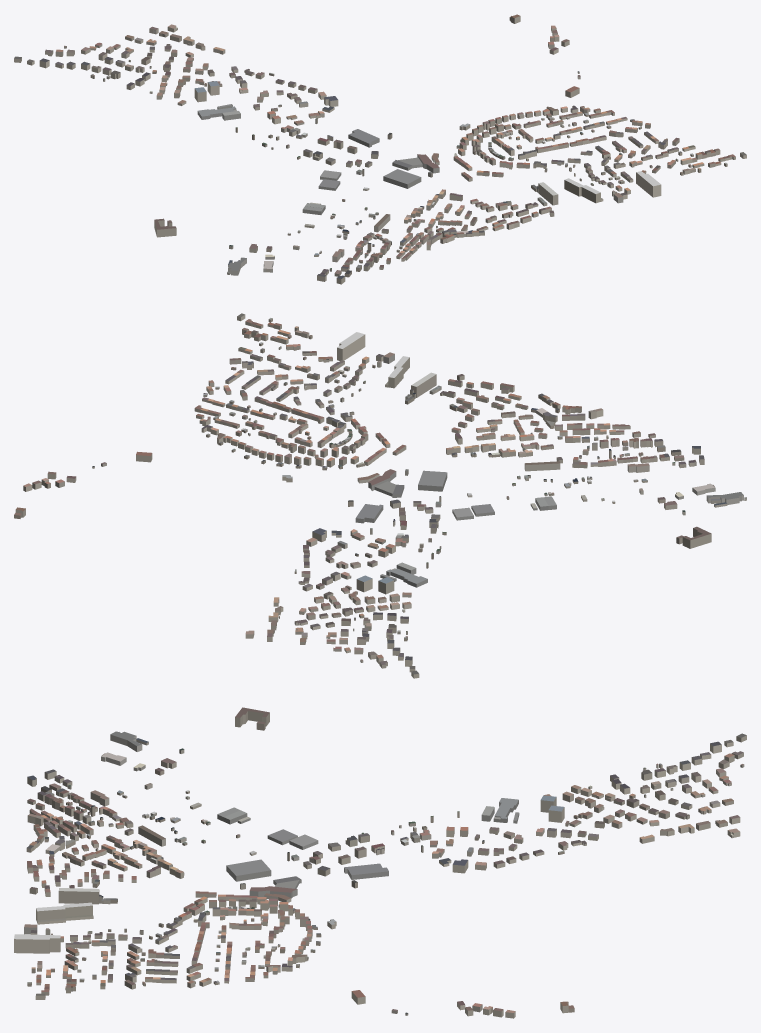
3 renders of one model, top to bottom at view 1: azimuth 30°, elevation 25°; view 2: azimuth 150°, elevation 25°; view 3: azimuth 270°, elevation 25°, orthographic. The views are drawn at different scales.
Visible parts, largest first — view 1: tuile; view 2: tuile; view 3: tuile.
Boxes of the visible parts, box(x1,y1,x2,y2) form: tuile: box(14, 14, 746, 284); tuile: box(14, 313, 746, 678); tuile: box(14, 707, 746, 1018).
Bounding box in the file's own units: 1012 × 56.42 × 1027.
